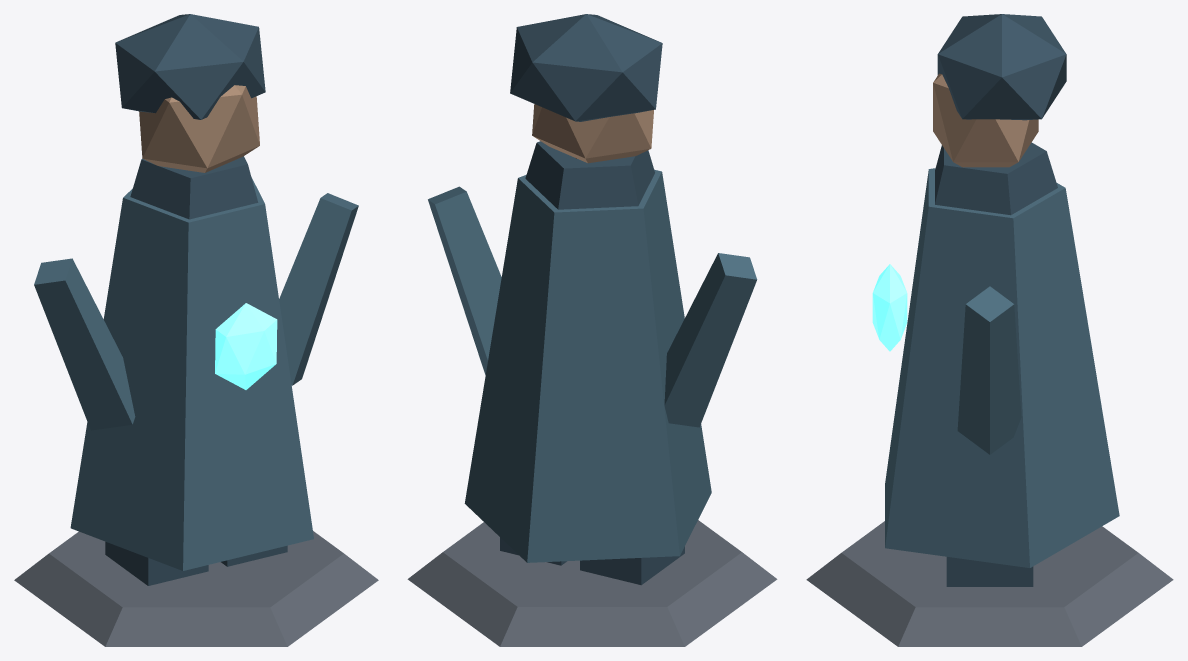
Rendered from guardian-v02.glb.
The picture shows the model from 3 angles, left to right: view 1: azimuth 30°, elevation 25°; view 2: azimuth 150°, elevation 25°; view 3: azimuth 270°, elevation 25°; orthographic projection.
Parts seen in each view (by area): view 1: long coat, display plinth, hood, arm, head, arm.001, high collar, heart crystal, left boot; view 2: long coat, display plinth, hood, arm, arm.001, high collar, head, left boot; view 3: long coat, display plinth, hood, arm.001, high collar, head, heart crystal, right boot.
Part boxes in pixels (<box>): long coat: <box>70,177,313,570</box>; display plinth: <box>14,531,378,646</box>; hood: <box>115,14,265,119</box>; arm: <box>34,258,135,430</box>; head: <box>139,85,259,172</box>; arm.001: <box>279,193,358,385</box>; high collar: <box>130,156,258,219</box>; heart crystal: <box>215,303,277,389</box>; left boot: <box>105,541,208,585</box>; long coat: <box>464,169,711,562</box>; display plinth: <box>407,520,777,646</box>; hood: <box>510,14,662,121</box>; arm: <box>664,253,757,427</box>; arm.001: <box>428,186,501,374</box>; high collar: <box>525,141,654,209</box>; head: <box>532,104,653,163</box>; left boot: <box>580,546,684,585</box>; long coat: <box>885,168,1119,567</box>; display plinth: <box>806,521,1173,646</box>; hood: <box>937,14,1066,120</box>; arm.001: <box>957,286,1021,454</box>; high collar: <box>935,142,1057,215</box>; head: <box>933,73,1038,167</box>; heart crystal: <box>872,264,907,351</box>; right boot: <box>946,557,1033,586</box>.
Bounding box in the file's own units: 1.4 × 2.31 × 1.36.
